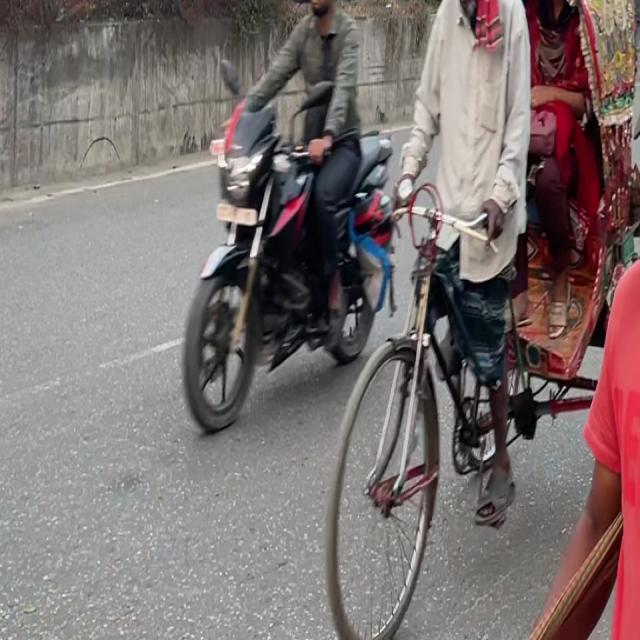motorbike: (154, 0, 382, 462)
